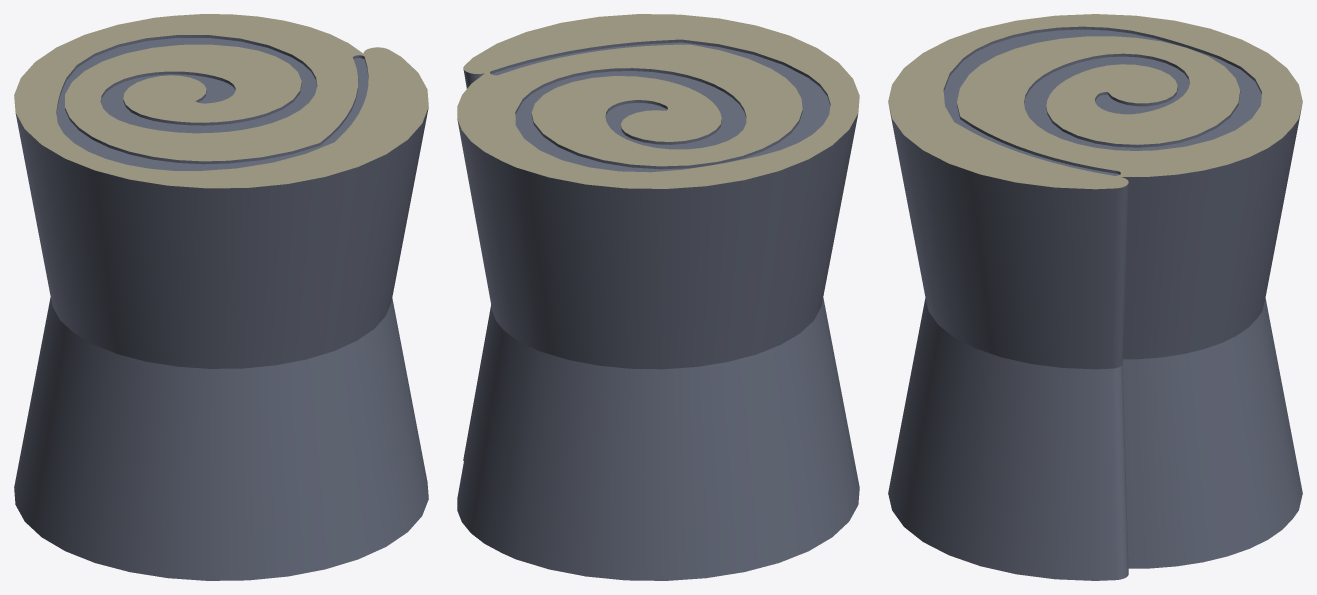
Rendered from Junk_5.fbx.
3 renders of one model, left to right at view 1: azimuth 30°, elevation 25°; view 2: azimuth 150°, elevation 25°; view 3: azimuth 270°, elevation 25°, orthographic.
Parts seen in each view (by area): view 1: Model; view 2: Model; view 3: Model.
Part boxes in pixels (x1=…): Model: x1=14, y1=14, x2=428, y2=580; Model: x1=457, y1=14, x2=859, y2=580; Model: x1=888, y1=14, x2=1302, y2=580.
Bounding box in the file's own units: 48.73 × 50.77 × 48.73.
